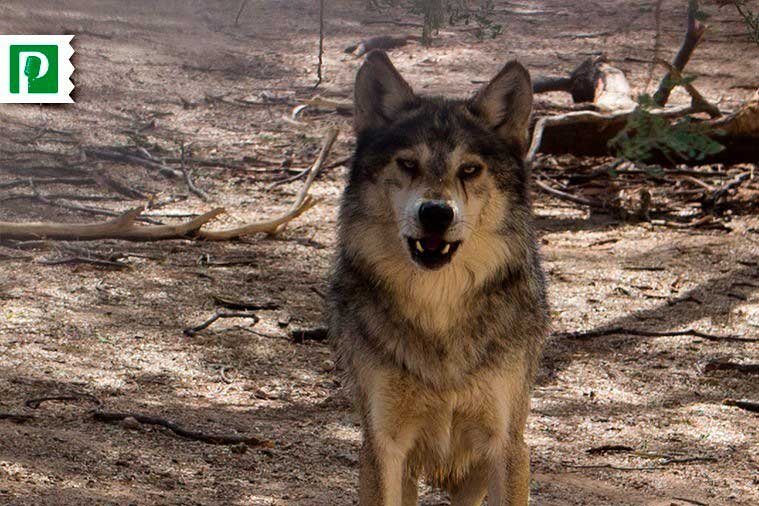Lobo: (310, 29, 567, 490)
